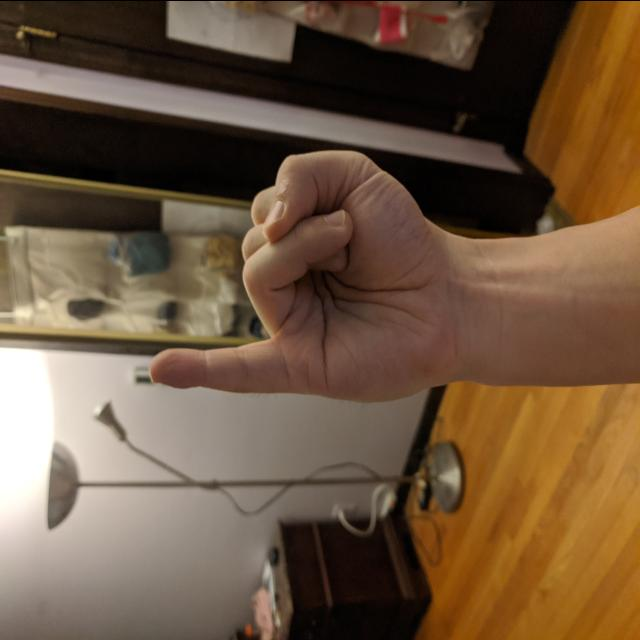I: (141, 140, 469, 406)
